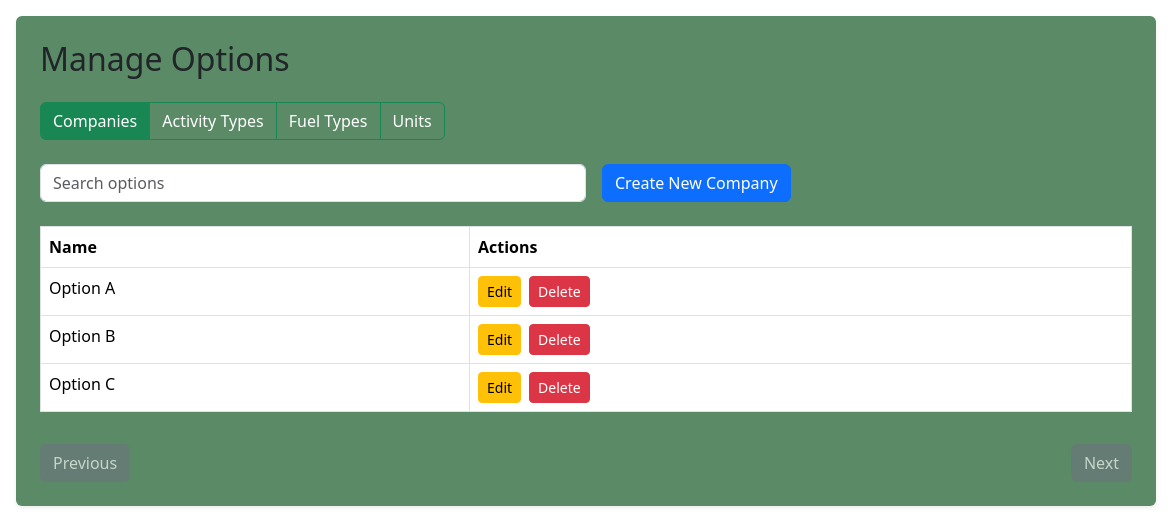
Test: ManageOptions Component › filters options based on search input
Type "Option B" into the field with placeholder "Search options" at (313,183), box [40,164,586,202]
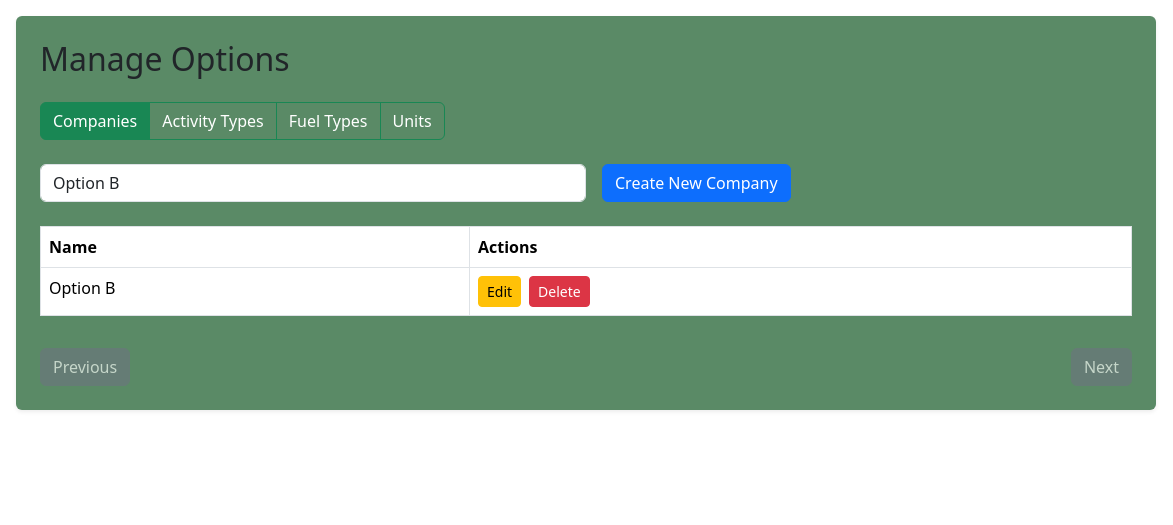
Check: the text "Option B" is shown, box [40,268,470,316]
Check: the text "Option A" is gone
